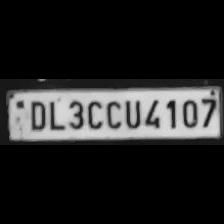0: (178, 96, 200, 128)
1: (162, 97, 178, 129)
3: (64, 98, 84, 130)
4: (141, 96, 161, 128)
7: (198, 95, 218, 129)
C: (85, 97, 103, 128), (104, 97, 122, 128)
D: (26, 97, 46, 130)
L: (46, 98, 64, 130)
U: (122, 97, 142, 129)
